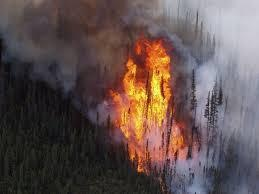fire: (110, 34, 192, 175)
